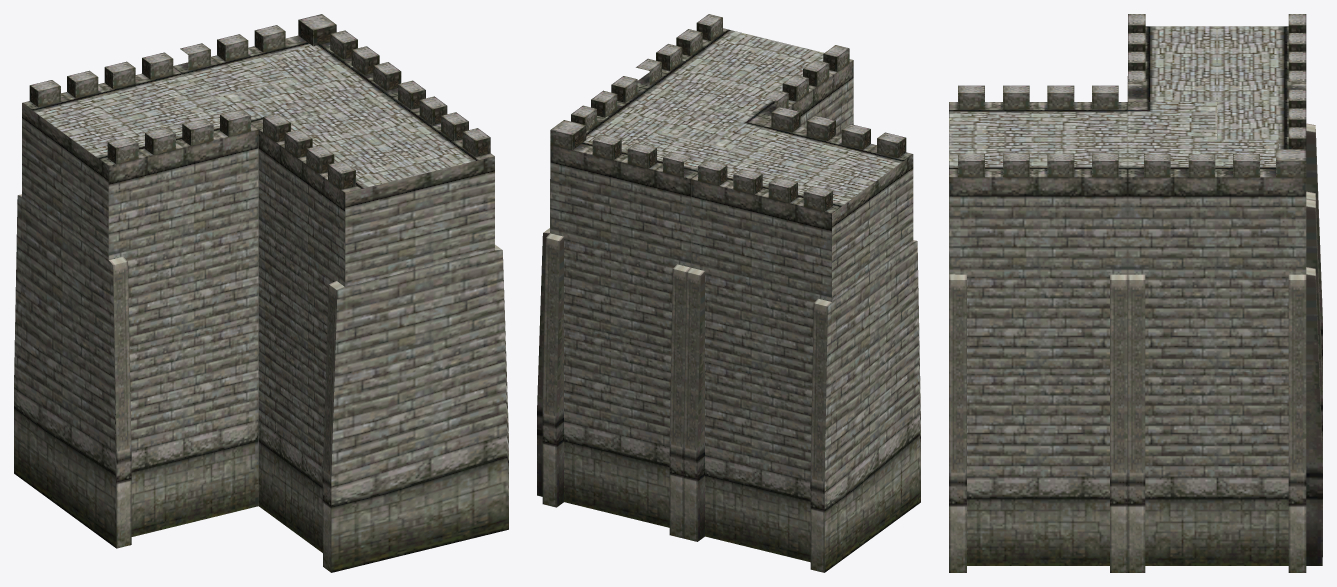
Rendered from b1-bigdam-05.glb.
The picture shows the model from 3 angles, left to right: view 1: azimuth 30°, elevation 25°; view 2: azimuth 150°, elevation 25°; view 3: azimuth 270°, elevation 25°; orthographic projection. The views are drawn at different scales.
Visible parts, largest first — view 1: 3; view 2: 3; view 3: 3.
Part boxes in pixels (x1,y1,x2,y2): 3: (14, 14, 508, 572); 3: (537, 14, 920, 572); 3: (949, 14, 1322, 572).
Bounding box in the file's own units: 20.93 × 25 × 20.92.
1 material, 1 textured.
